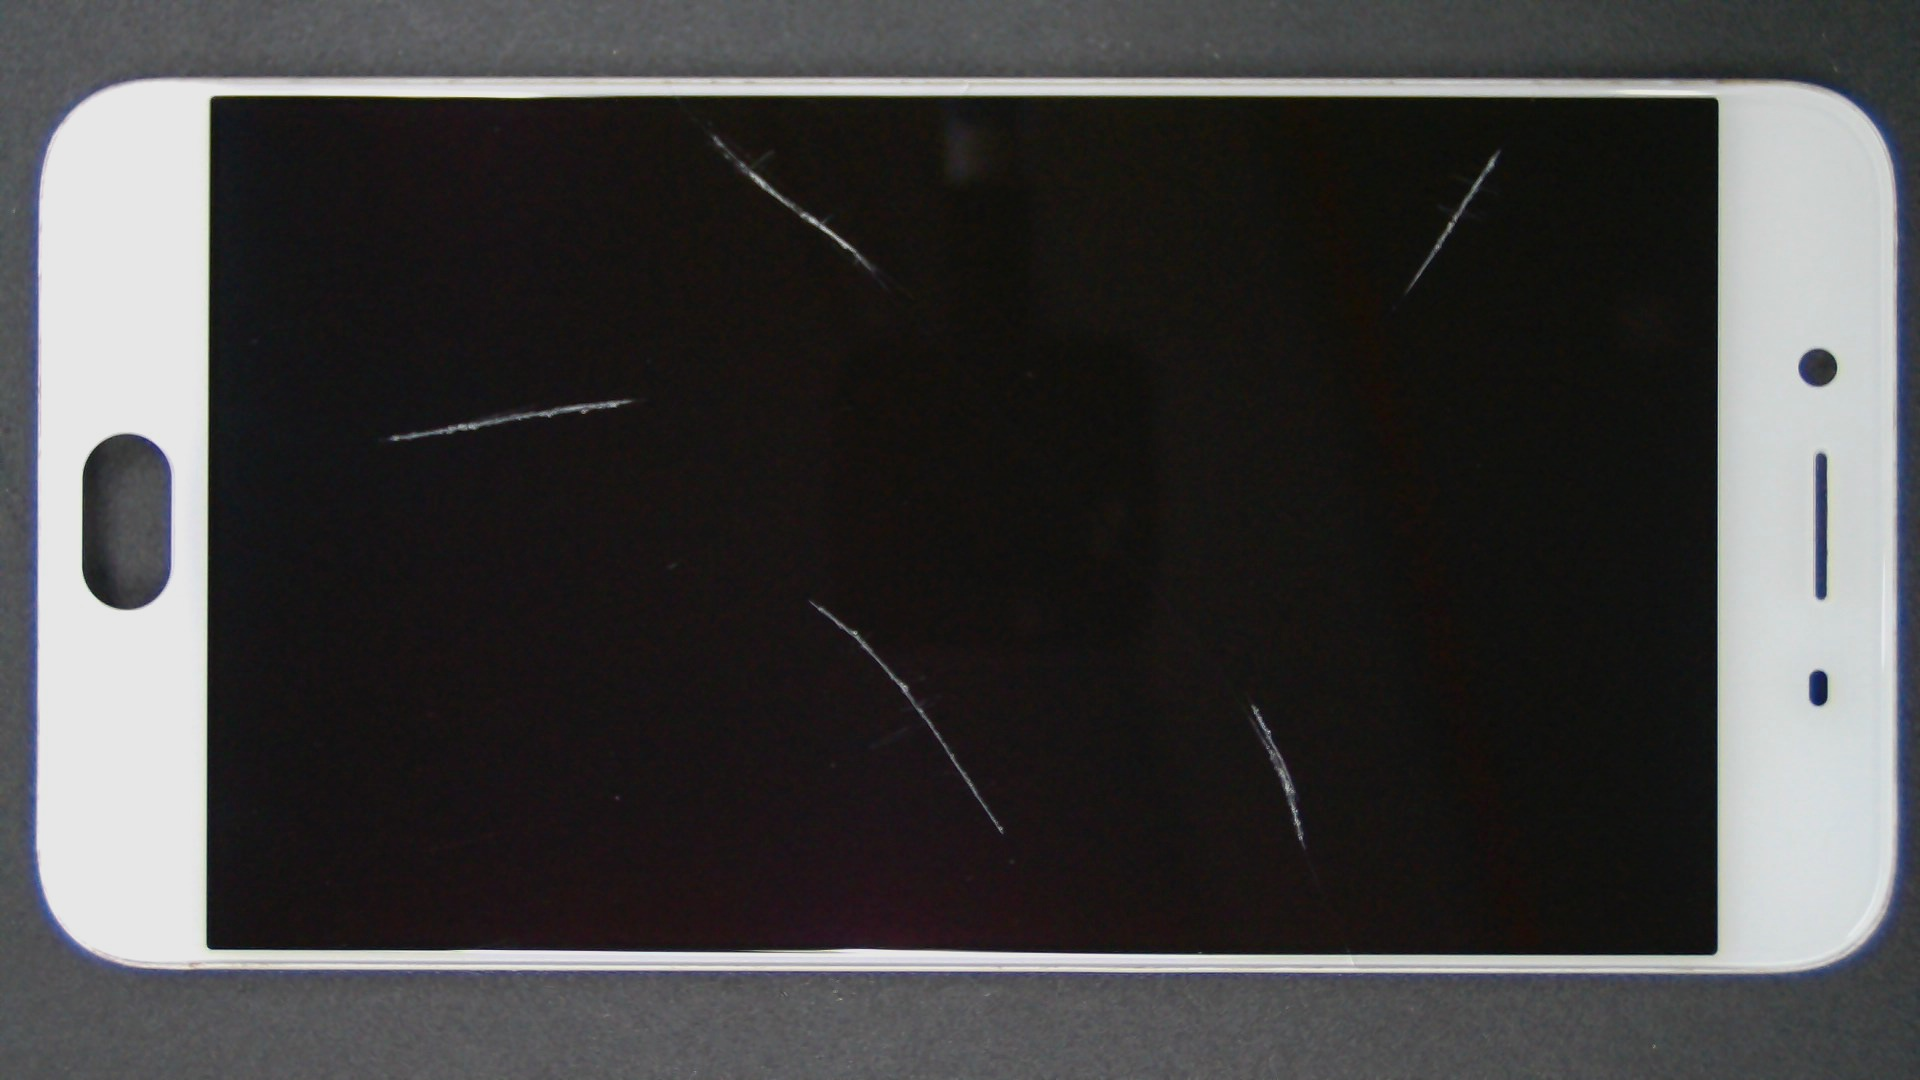oil: (626, 352, 1879, 1058), (405, 299, 1213, 901), (318, 199, 951, 597), (750, 74, 1920, 224), (356, 66, 1065, 202)
